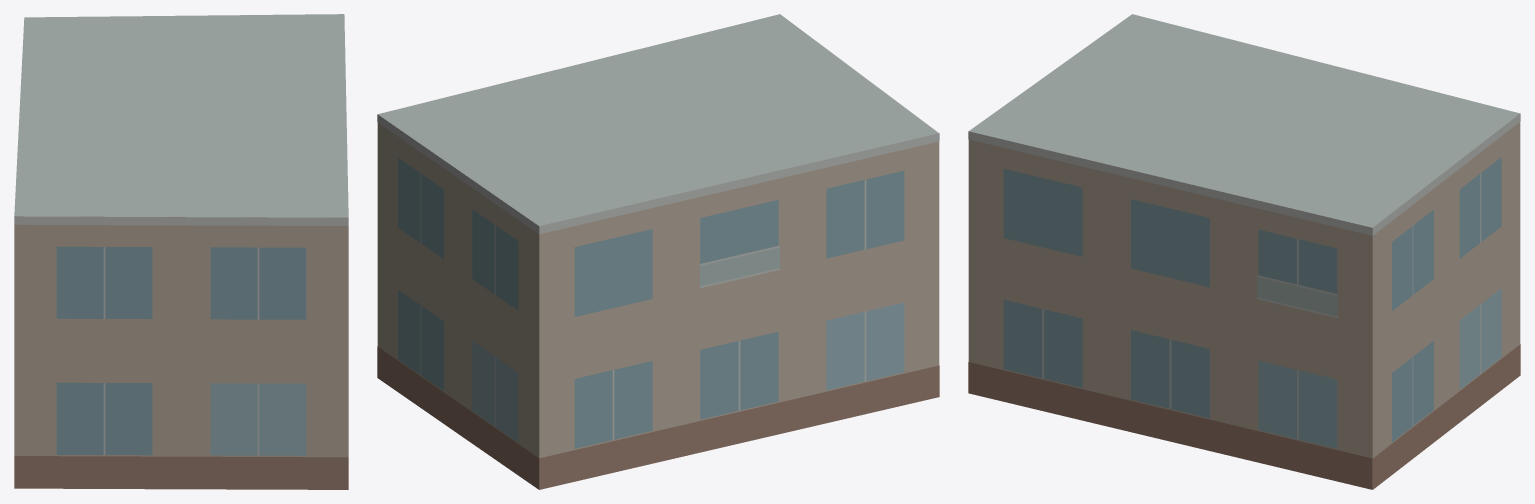
Rendered from survey-upis-32734298.glb.
3 renders of one model, left to right at view 1: azimuth 30°, elevation 25°; view 2: azimuth 150°, elevation 25°; view 3: azimuth 270°, elevation 25°, orthographic. The views are drawn at different scales.
Visible parts, largest first — view 1: survey-upis-32734298.tmp; view 2: survey-upis-32734298.tmp; view 3: survey-upis-32734298.tmp.
Boxes of the visible parts, x1,y1,x2,y2 form: survey-upis-32734298.tmp: (14, 14, 348, 489); survey-upis-32734298.tmp: (377, 14, 939, 489); survey-upis-32734298.tmp: (968, 14, 1520, 489).
Size of the model in its own units: 13.92 by 7.95 by 15.18.
